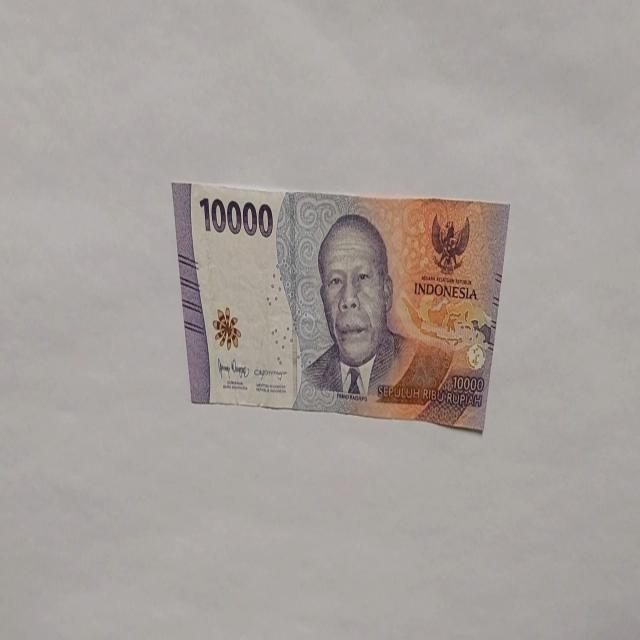sepuluh ribu rupiah: (171, 178, 511, 434), (290, 210, 452, 414)
